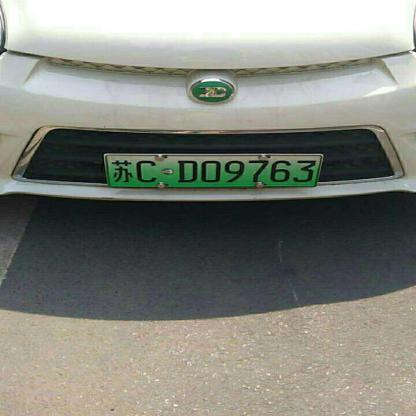lp: (106, 154, 321, 186)
